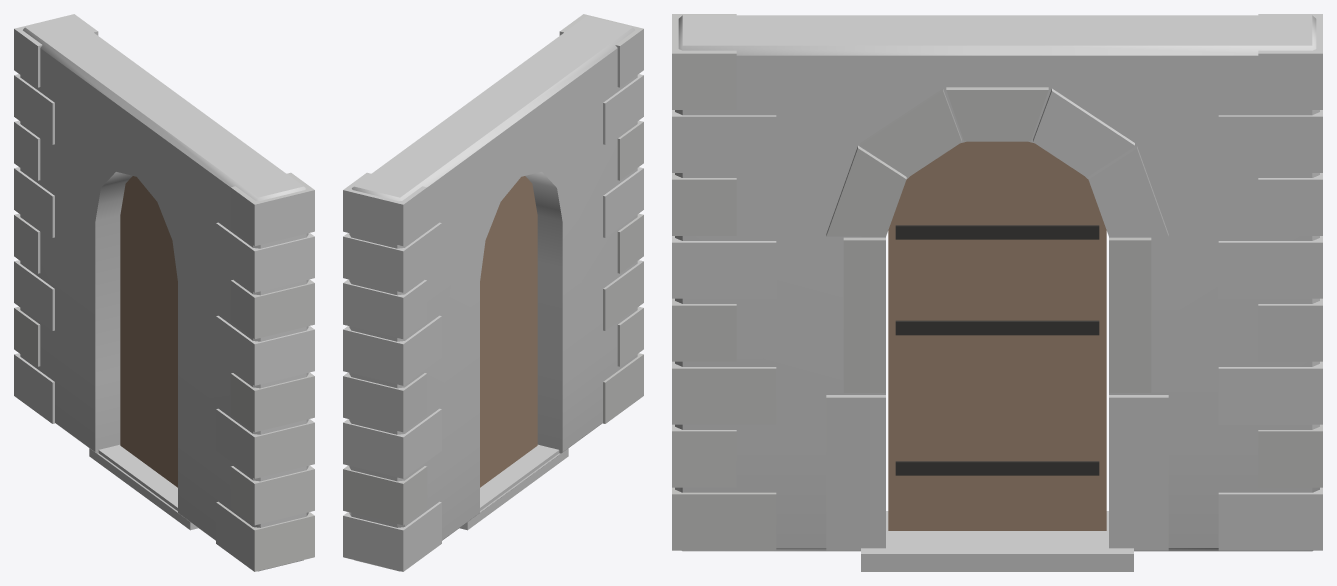
File: Kit_RealTower_W1F_Fractured.fbx
The picture shows the model from 3 angles, left to right: view 1: azimuth 30°, elevation 25°; view 2: azimuth 150°, elevation 25°; view 3: azimuth 270°, elevation 25°; orthographic projection. The views are drawn at different scales.
Visible parts, largest first — view 1: Kit_RealTower_W1F_frag_02, Kit_RealTower_W1F_frag_01, Kit_RealTower_W1F_frag_03, Kit_RealTower_W1F_frag_04, Kit_RealTower_W1F_frag_06, Kit_RealTower_W1F_frag_05, Kit_RealTower_W1F_frag_07, Kit_RealTower_W1F_frag_08, Kit_RealTower_W1F_frag_10, Kit_RealTower_W1F_frag_09; view 2: Kit_RealTower_W1F_frag_02, Kit_RealTower_W1F_frag_04, Kit_RealTower_W1F_frag_03, Kit_RealTower_W1F_frag_01, Kit_RealTower_W1F_frag_10, Kit_RealTower_W1F_frag_09, Kit_RealTower_W1F_frag_08, Kit_RealTower_W1F_frag_07, Kit_RealTower_W1F_frag_06, Kit_RealTower_W1F_frag_05; view 3: Kit_RealTower_W1F_frag_02, Kit_RealTower_W1F_frag_03, Kit_RealTower_W1F_frag_01, Kit_RealTower_W1F_frag_04, Kit_RealTower_W1F_frag_07, Kit_RealTower_W1F_frag_08, Kit_RealTower_W1F_frag_05, Kit_RealTower_W1F_frag_09, Kit_RealTower_W1F_frag_06, Kit_RealTower_W1F_frag_10.
Part boxes in pixels (x1,y1,x2,y2): Kit_RealTower_W1F_frag_02: (120,100,314,487); Kit_RealTower_W1F_frag_01: (137,329,314,571); Kit_RealTower_W1F_frag_03: (14,163,198,530); Kit_RealTower_W1F_frag_04: (14,14,185,204); Kit_RealTower_W1F_frag_06: (216,222,314,292); Kit_RealTower_W1F_frag_05: (216,315,314,385); Kit_RealTower_W1F_frag_07: (14,353,55,423); Kit_RealTower_W1F_frag_08: (14,260,54,330); Kit_RealTower_W1F_frag_10: (14,74,54,144); Kit_RealTower_W1F_frag_09: (14,167,54,237); Kit_RealTower_W1F_frag_02: (469,14,643,487); Kit_RealTower_W1F_frag_04: (343,102,519,339); Kit_RealTower_W1F_frag_03: (343,261,568,571); Kit_RealTower_W1F_frag_01: (517,213,643,484); Kit_RealTower_W1F_frag_10: (343,222,441,292); Kit_RealTower_W1F_frag_09: (343,315,441,385); Kit_RealTower_W1F_frag_08: (343,408,441,478); Kit_RealTower_W1F_frag_07: (343,501,441,571); Kit_RealTower_W1F_frag_06: (603,74,643,144); Kit_RealTower_W1F_frag_05: (603,167,643,237); Kit_RealTower_W1F_frag_02: (672,14,1106,530); Kit_RealTower_W1F_frag_03: (861,210,1322,571); Kit_RealTower_W1F_frag_01: (672,237,885,551); Kit_RealTower_W1F_frag_04: (1000,14,1322,236); Kit_RealTower_W1F_frag_07: (1218,487,1322,550); Kit_RealTower_W1F_frag_08: (1218,361,1322,424); Kit_RealTower_W1F_frag_05: (672,236,776,298); Kit_RealTower_W1F_frag_09: (1218,236,1322,298); Kit_RealTower_W1F_frag_06: (672,110,776,172); Kit_RealTower_W1F_frag_10: (1218,110,1322,172).
Size of what is drawn, in the model's own units: 0.445 by 2.29 by 2.62.
